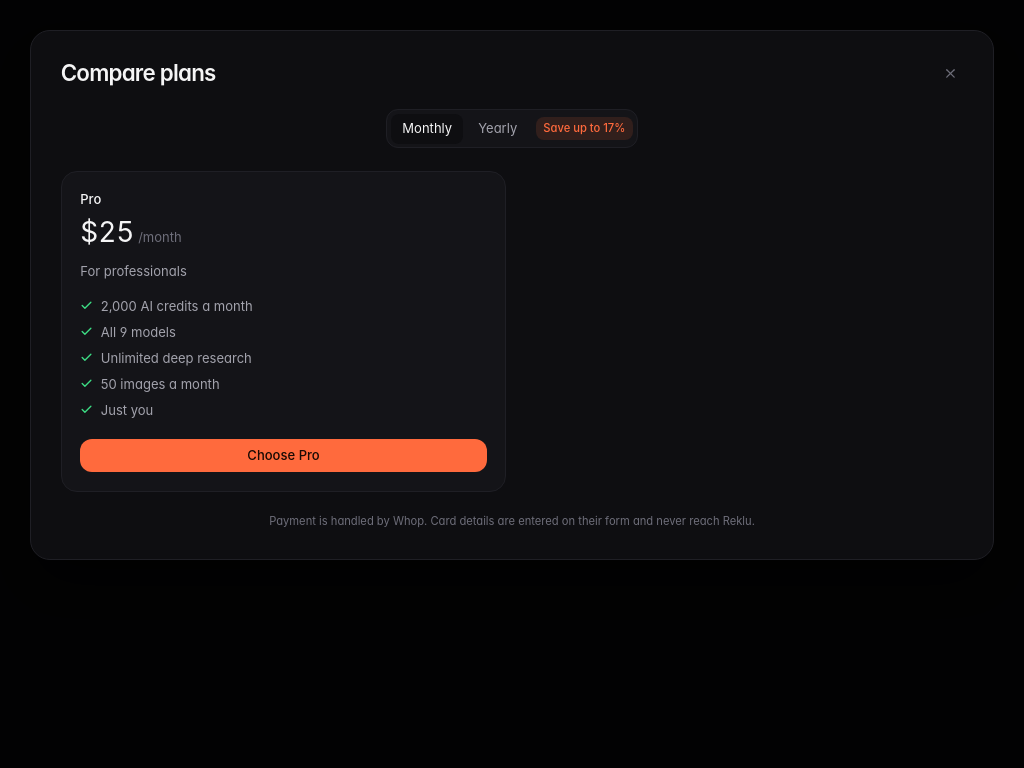
Scenario: checkout › reports a failure instead of showing a payment form
Click the button "Choose Pro" at (284, 455), box [80,439,487,472]
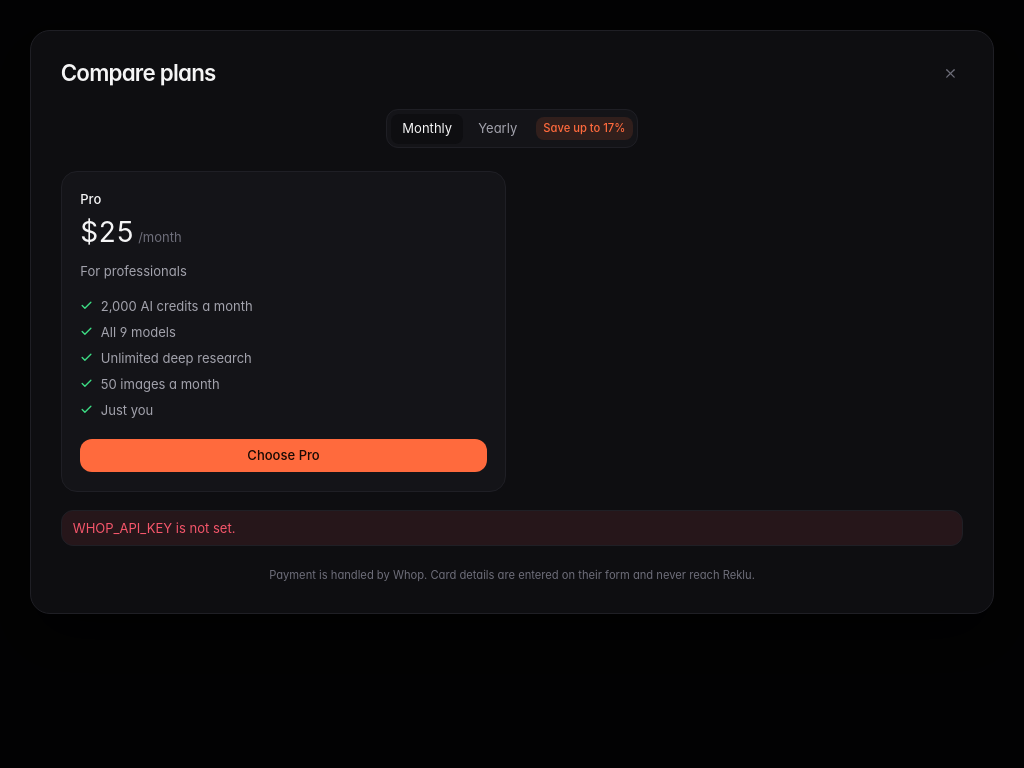
Result: the message reads "WHOP_API_KEY is not set." at [73,520,236,536]
